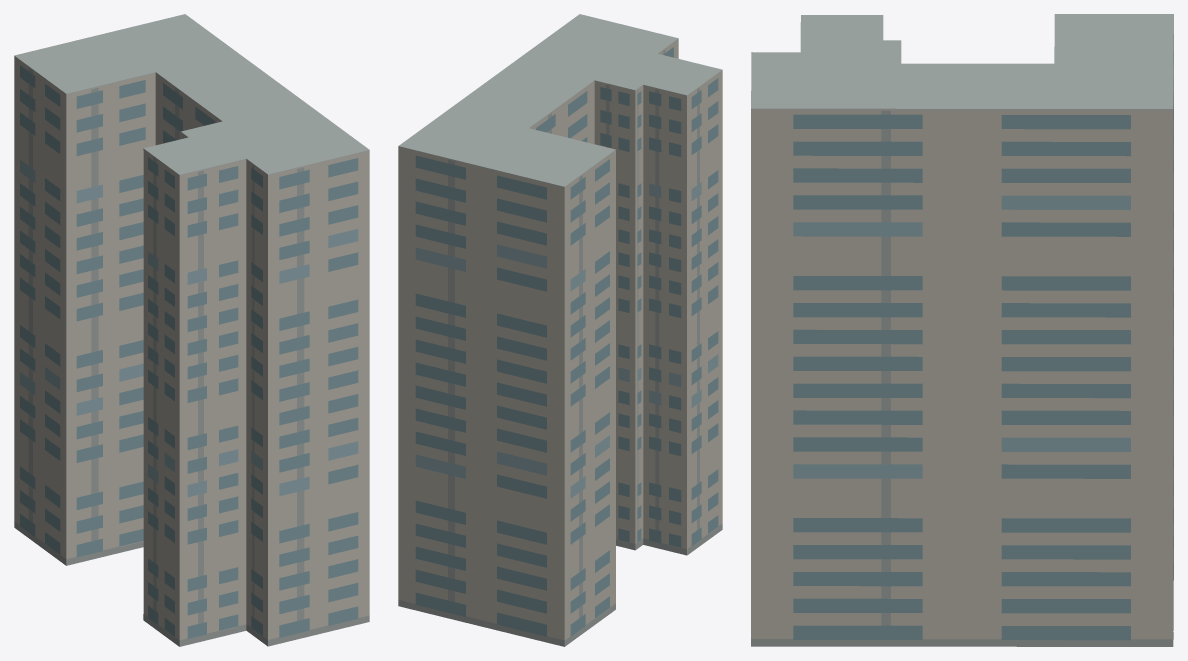
The model's file is residential-bef3422d-cfac-45ca-bc7c-f84310f318b4.glb.
3 views of the same model, side by side, from view 1: azimuth 30°, elevation 25°; view 2: azimuth 150°, elevation 25°; view 3: azimuth 270°, elevation 25° (orthographic). The views are drawn at different scales.
Visible parts, largest first — view 1: residential-bef3422d-cfac-45ca-bc7c-f84310f318b4.tmp; view 2: residential-bef3422d-cfac-45ca-bc7c-f84310f318b4.tmp; view 3: residential-bef3422d-cfac-45ca-bc7c-f84310f318b4.tmp.
Boxes of the visible parts, x1,y1,x2,y2 form: residential-bef3422d-cfac-45ca-bc7c-f84310f318b4.tmp: [14, 14, 369, 646]; residential-bef3422d-cfac-45ca-bc7c-f84310f318b4.tmp: [398, 14, 722, 646]; residential-bef3422d-cfac-45ca-bc7c-f84310f318b4.tmp: [751, 14, 1173, 646].
Size of the model in its own units: 28.08 by 74 by 52.74.
